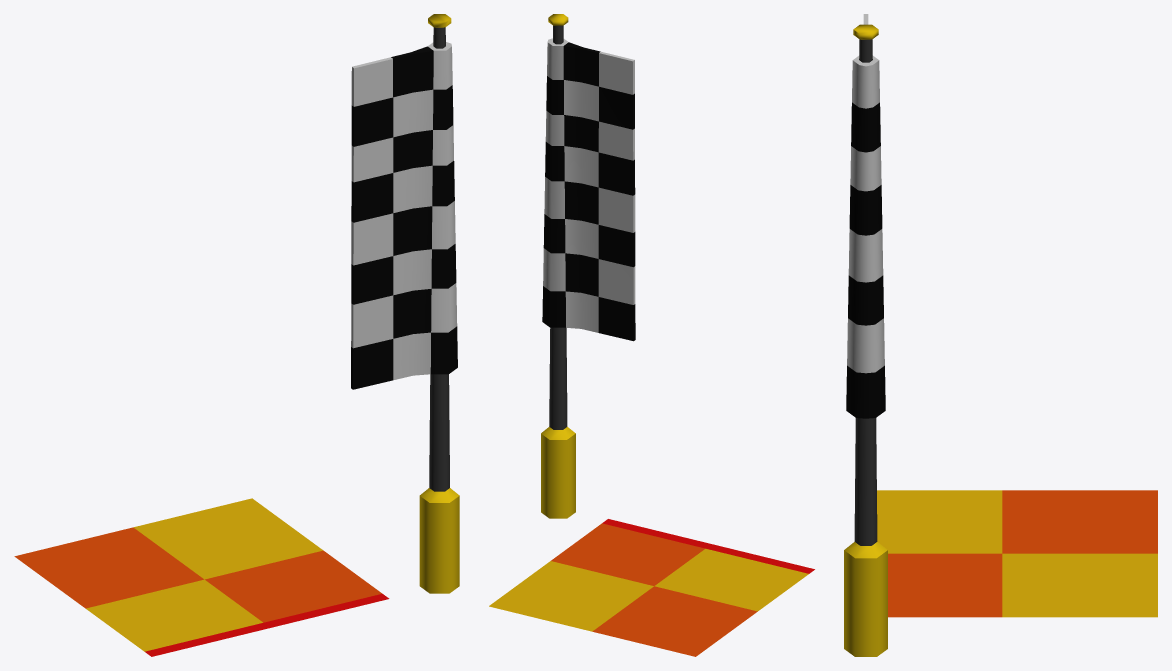
File: Base_FinishFlagR.fbx
3 renders of one model, left to right at view 1: azimuth 30°, elevation 25°; view 2: azimuth 150°, elevation 25°; view 3: azimuth 270°, elevation 25°, orthographic. The views are drawn at different scales.
Visible parts, largest first — view 1: Base_FinishFlagR; view 2: Base_FinishFlagR; view 3: Base_FinishFlagR.
Boxes of the visible parts, x1=… form: Base_FinishFlagR: x1=14, y1=14, x2=459, y2=656; Base_FinishFlagR: x1=489, y1=14, x2=814, y2=656; Base_FinishFlagR: x1=844, y1=14, x2=1157, y2=656.
Bounding box in the file's own units: 2579 × 4560 × 2093.
